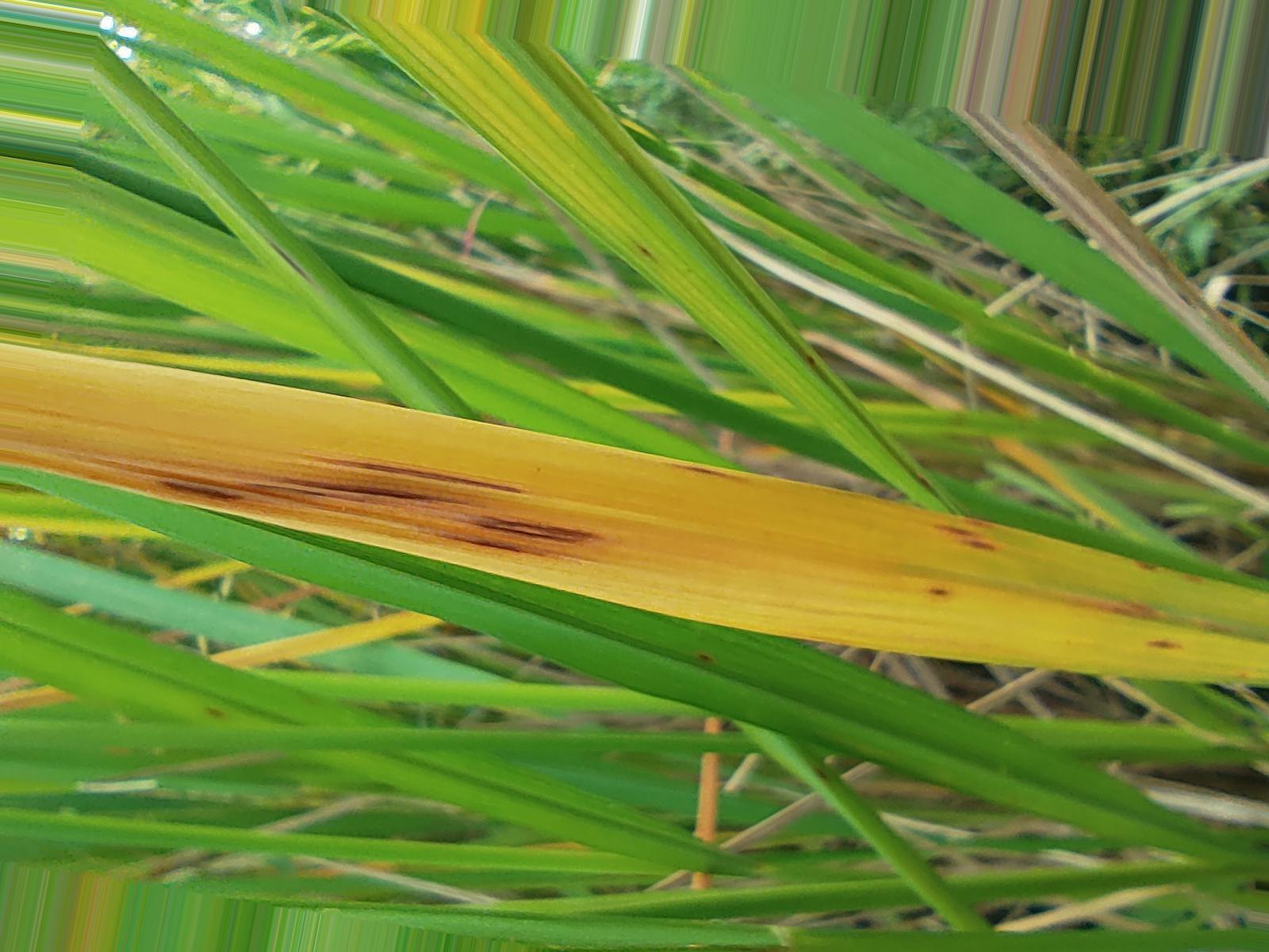LEAF: (33, 346, 1268, 684)
NBS: (304, 458, 523, 494), (285, 479, 428, 500), (1066, 598, 1168, 619), (469, 523, 573, 542), (437, 535, 525, 553), (160, 482, 237, 500), (669, 463, 746, 478), (931, 522, 978, 538), (1190, 618, 1237, 632), (963, 540, 995, 553), (1146, 639, 1182, 649), (962, 519, 994, 528), (929, 588, 948, 594)
